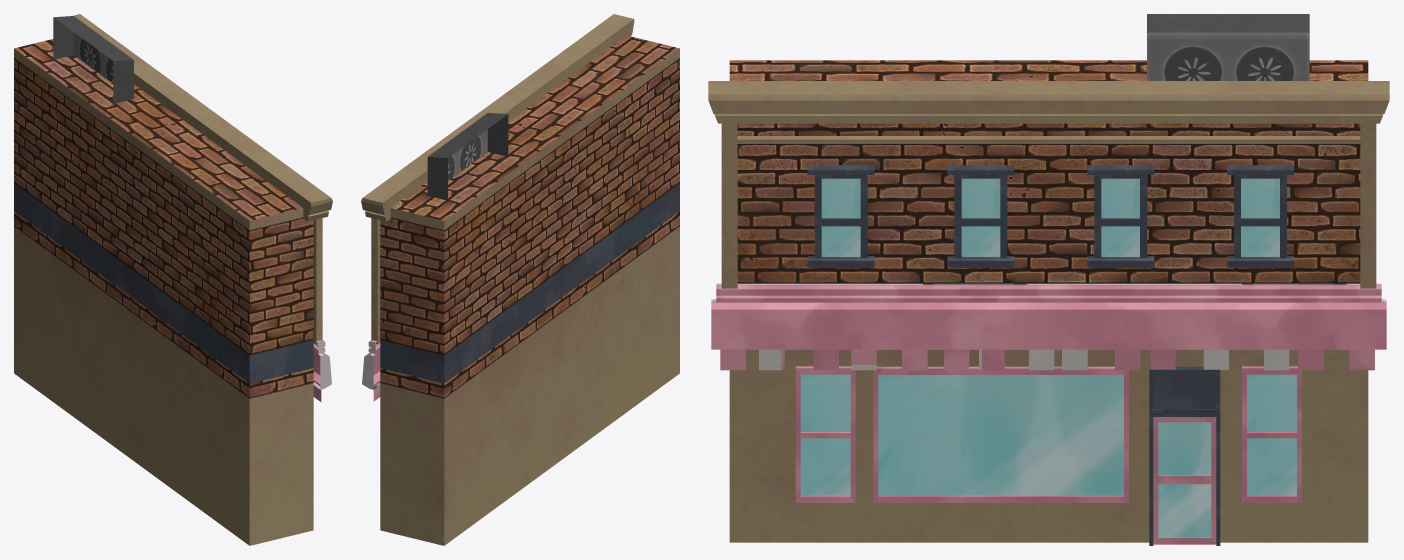
Rendered from street_buildings_4.glb.
The picture shows the model from 3 angles, left to right: view 1: azimuth 30°, elevation 25°; view 2: azimuth 150°, elevation 25°; view 3: azimuth 270°, elevation 25°; orthographic projection. The views are drawn at different scales.
Parts seen in each view (by area): view 1: AC_fan; view 2: AC_fan; view 3: AC_fan.
Boxes of the visible parts, x1=… form: AC_fan: x1=14, y1=14, x2=332, y2=545; AC_fan: x1=361, y1=14, x2=679, y2=545; AC_fan: x1=708, y1=14, x2=1389, y2=545.
Bounding box in the file's own units: 0.3699 × 1.72 × 2.13.
Materials: 2 (2 with a texture image).
